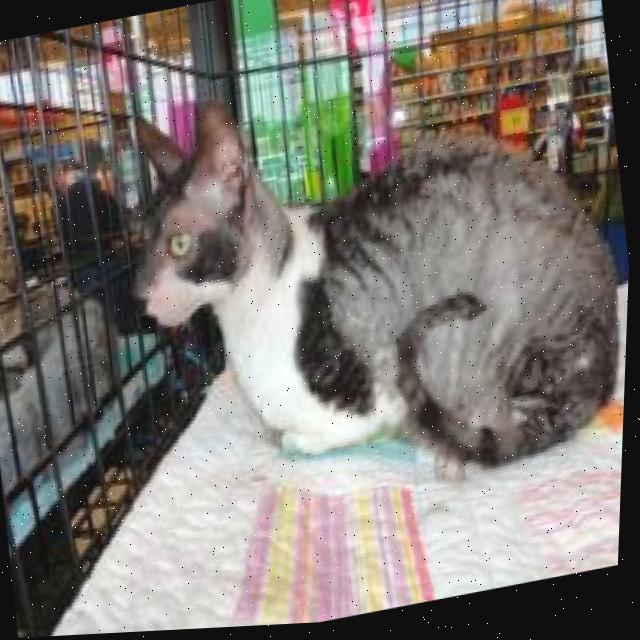Cornish Rex: (95, 25, 639, 554)
